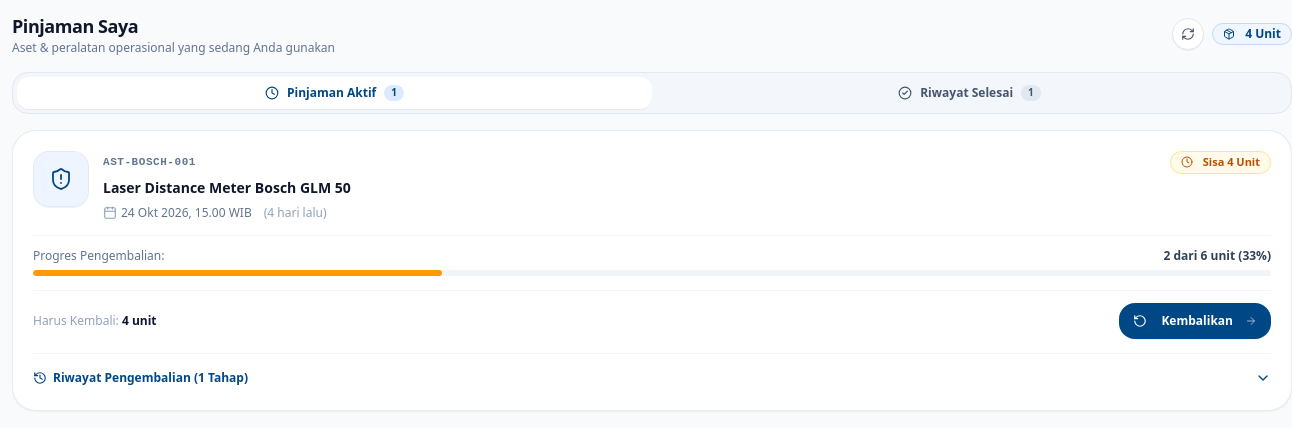
it: Task P4.3: Loan History & Return Timeline Feature Suite › 3. Segmented Tab Navigation in LoansPage › switches cleanly between Pinjaman Aktif and Riwayat Selesai tabs
Expected: the heading "Laser Distance Meter Bosch GLM 50" is shown, [103,178,351,196]
Expected: the text "Multimeter Digital Fluke 179" is not shown
Click the button "Riwayat Selesai 1". click: (970, 93)
box: [652,77,1287,109]
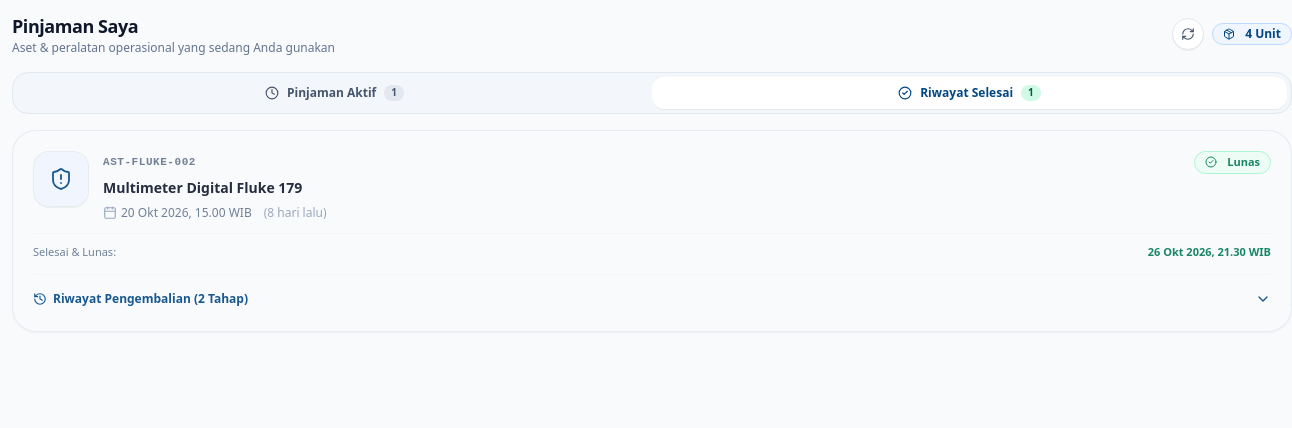
Now the heading "Multimeter Digital Fluke 179" is shown, box [103,178,302,196]
Now the heading "Laser Distance Meter Bosch GLM 50" is gone
Click the button "Pinjaman Aktif 1". click: (334, 93)
box: [17,77,652,109]
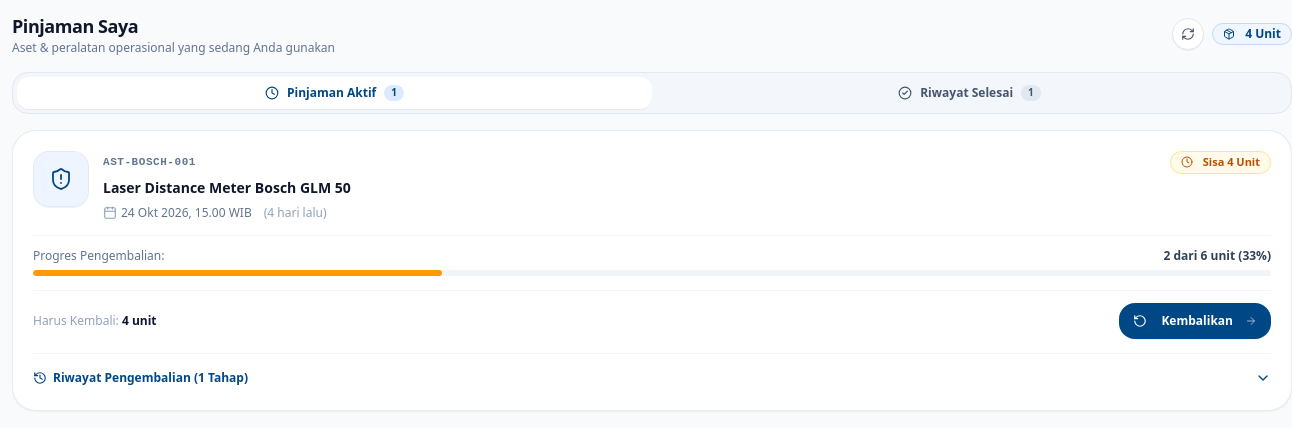
Now the heading "Laser Distance Meter Bosch GLM 50" is shown, box [103,178,351,196]
